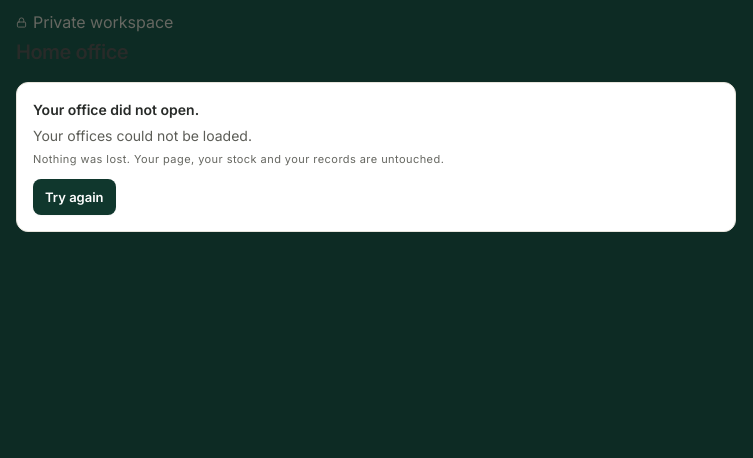
Test: the office screen never shows a blank page › explains a failed load, reassures about data, and offers a retry
Expected: the text "Your office did not open." is shown, [33,101,199,118]
Expected: the text "Nothing was lost" is shown, [33,152,444,166]
Click the button "Try again" at point(74, 197), box [33,179,116,215]
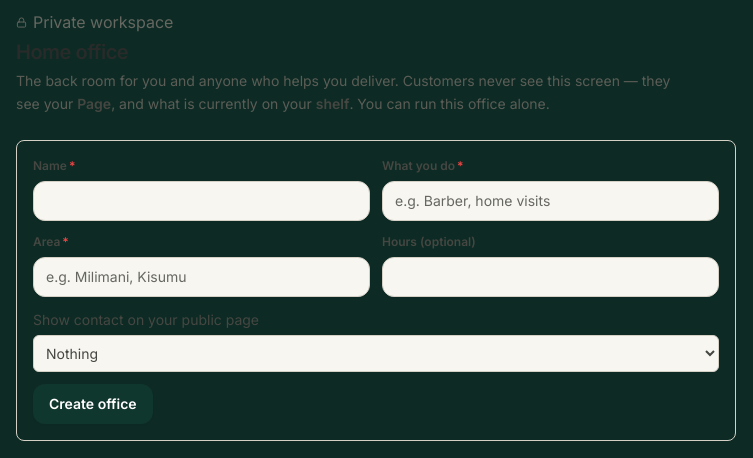
Now the button "Create office" is shown, box [33,384,153,424]
